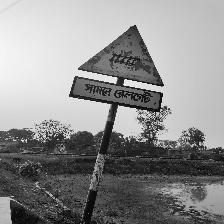Rail-crossing: (71, 25, 165, 111)
